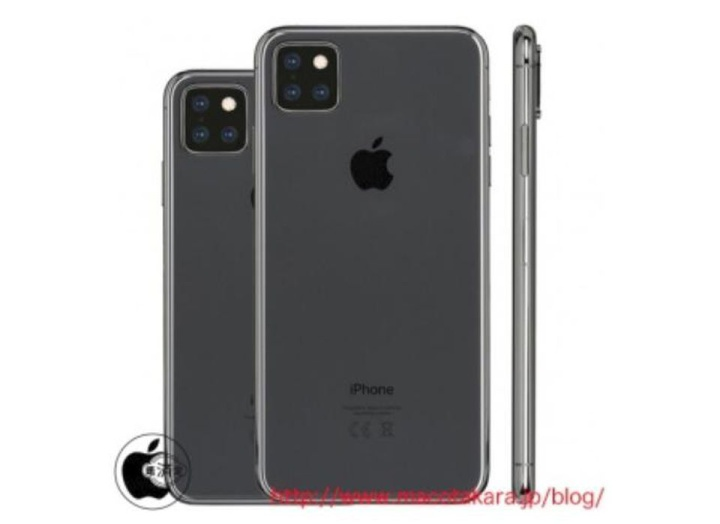apple: (337, 130, 405, 201)
